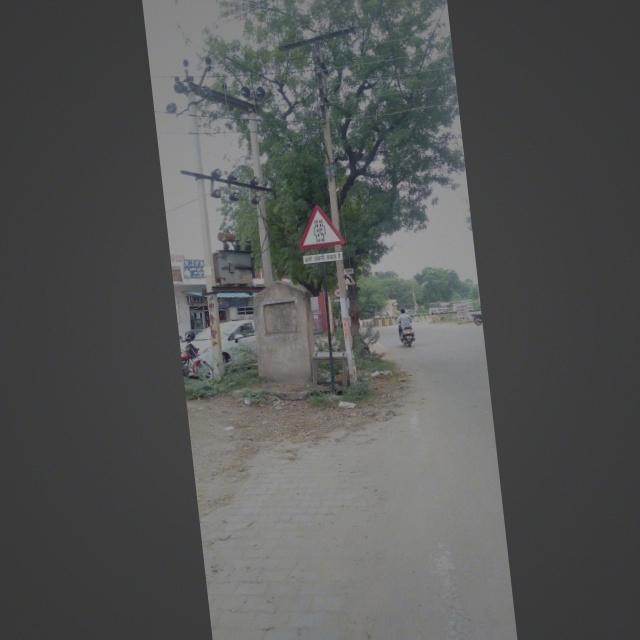Narrow_Road_Ahead: (294, 201, 344, 250)
